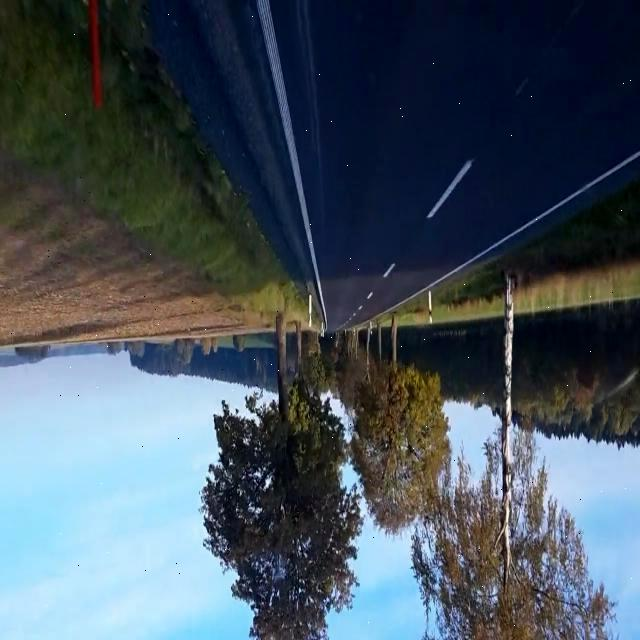lane: (378, 148, 640, 316), (256, 1, 327, 324), (427, 159, 475, 219)
road: (150, 1, 640, 330)
